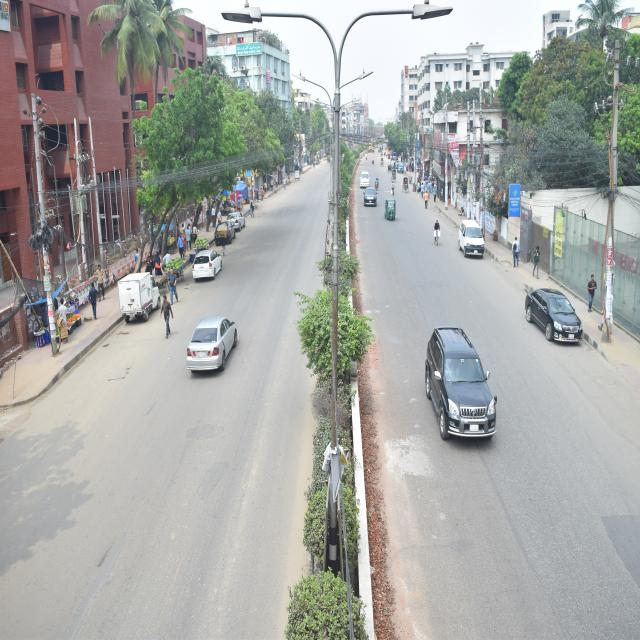car: (418, 314, 514, 474), (182, 308, 258, 411), (519, 278, 595, 356), (447, 208, 495, 272), (186, 240, 236, 290), (220, 200, 257, 233), (204, 216, 242, 248), (362, 179, 378, 217), (356, 163, 371, 194)
motorbike: (372, 171, 384, 193)
pickup-van: (111, 262, 174, 333)
